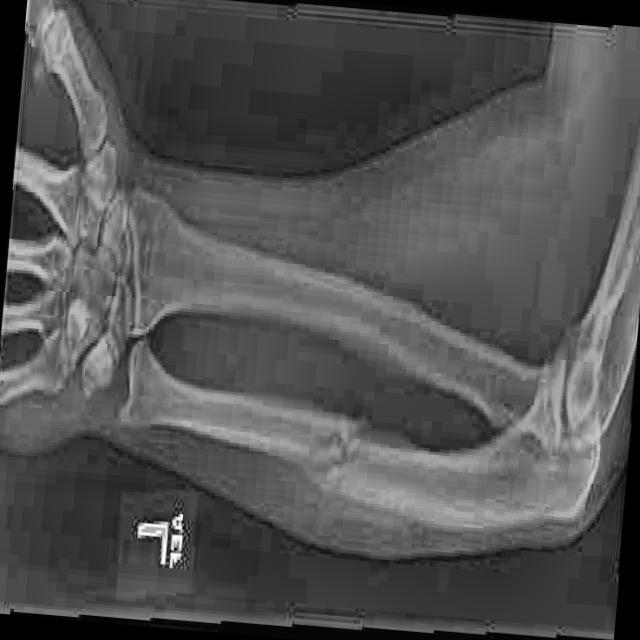forearm fracture: (286, 354, 404, 549)
